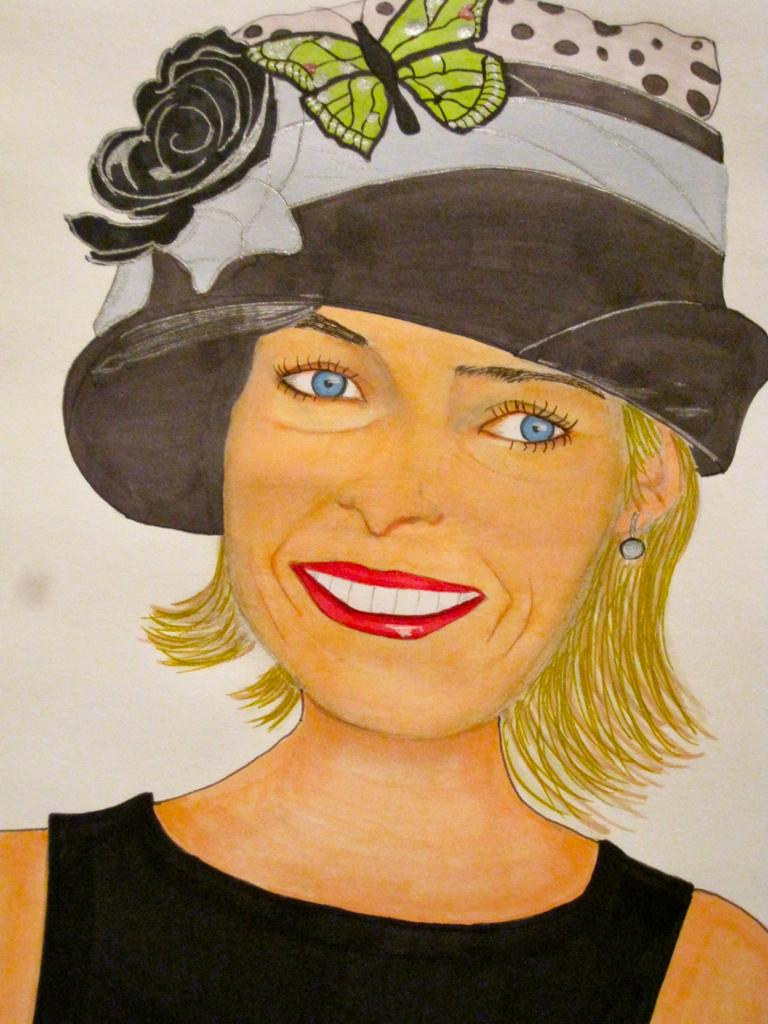Hat: (63, 0, 767, 533)
